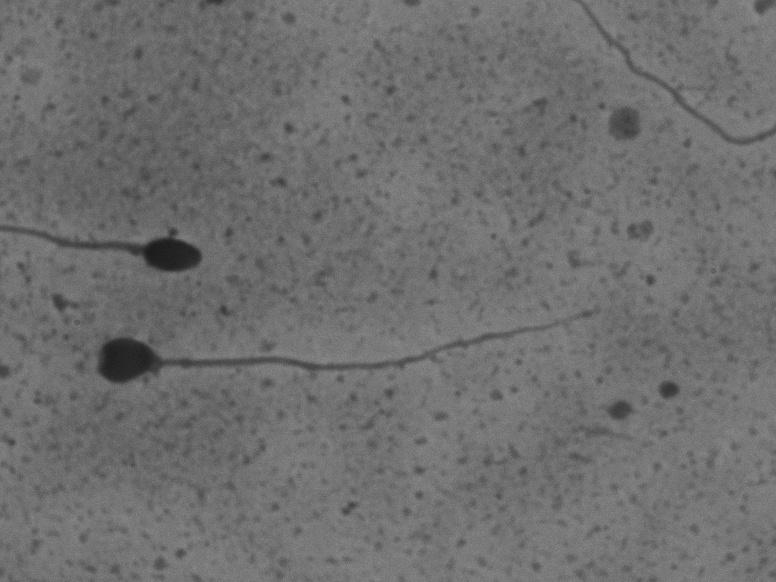Abnormal: (73, 289, 600, 459)
